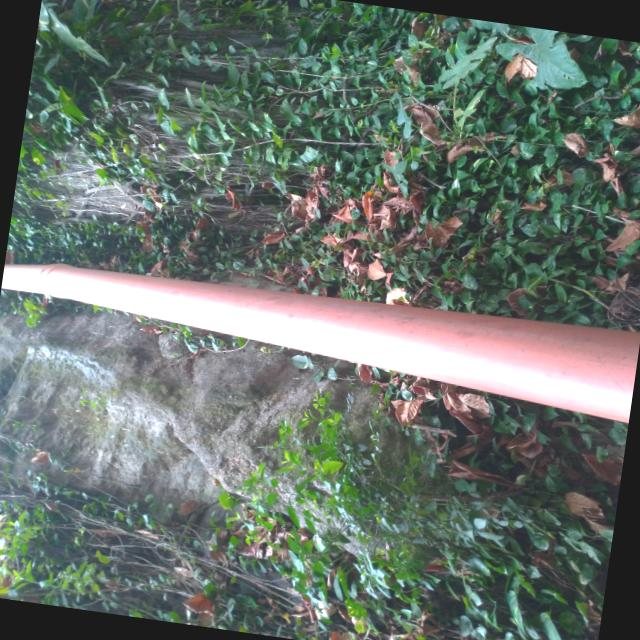gas: (2, 264, 640, 427)
